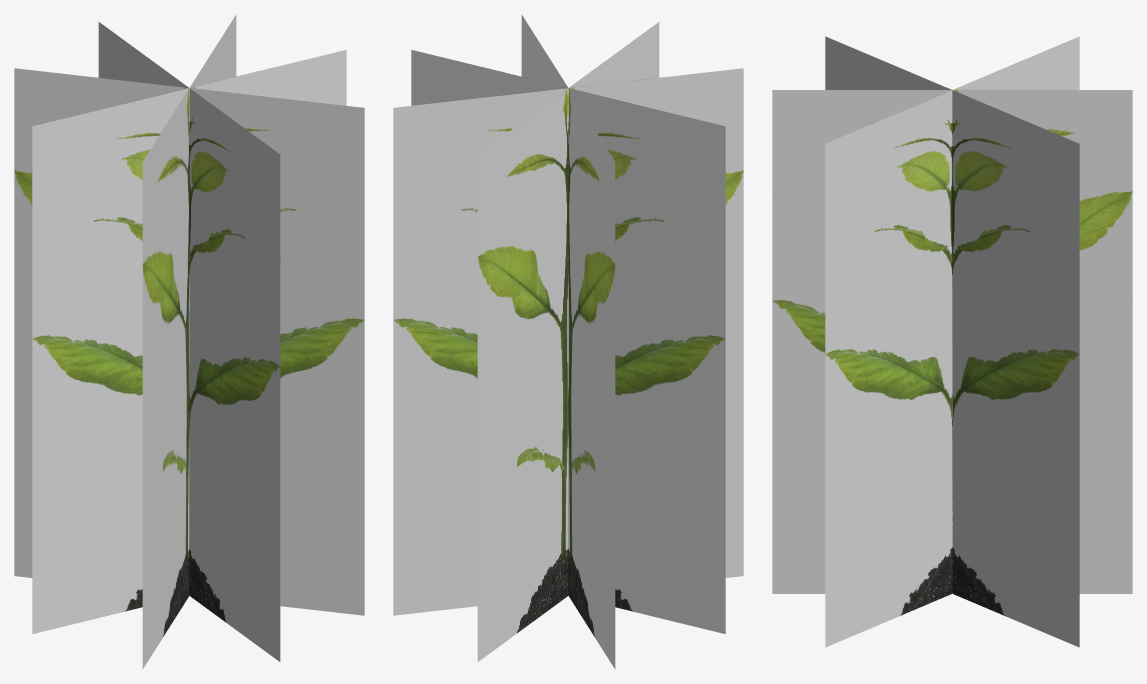
Rendered from OU_AR_Seed_01_D.fbx.
3 renders of one model, left to right at view 1: azimuth 30°, elevation 25°; view 2: azimuth 150°, elevation 25°; view 3: azimuth 270°, elevation 25°, orthographic.
Visible parts, largest first — view 1: Plane; view 2: Plane; view 3: Plane.
Boxes of the visible parts, <box> form: Plane: <box>14,14,364,669</box>; Plane: <box>393,14,743,669</box>; Plane: <box>772,36,1132,647</box>.
Size of the model in its own units: 63.64 by 98.26 by 63.64.
1 material, 1 textured.
